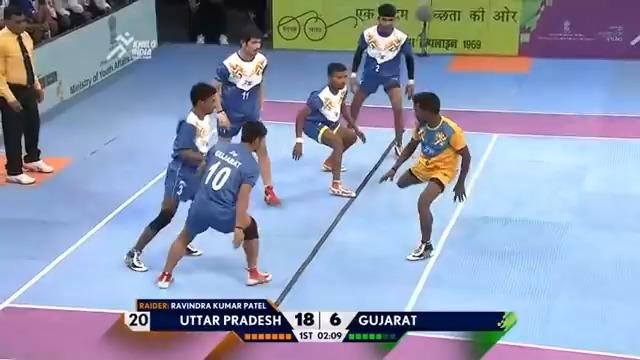Player: (123, 81, 230, 272), (155, 118, 273, 288), (334, 2, 416, 168), (209, 32, 281, 206), (291, 61, 366, 197)
Raider: (378, 91, 471, 261)
referee: (0, 4, 54, 185)
